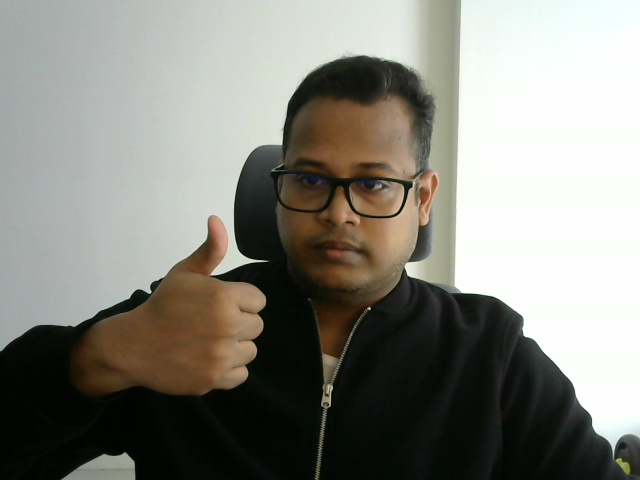ThumbsUp: (157, 215, 267, 397)
